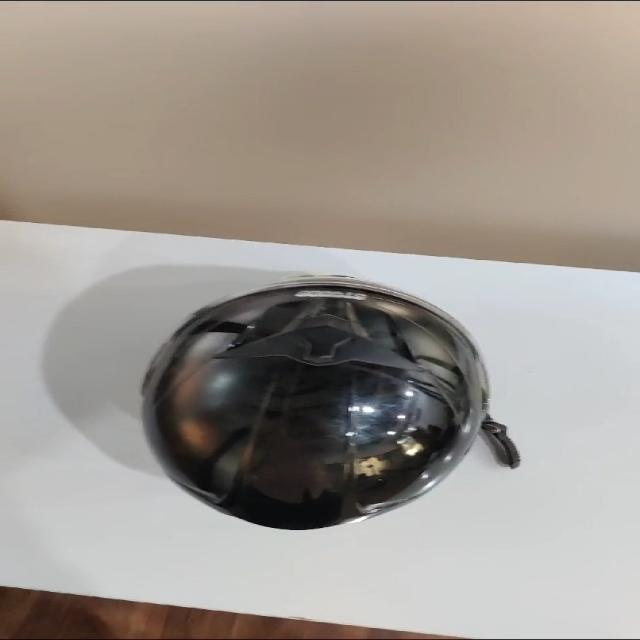helmet: (143, 276, 517, 529)
